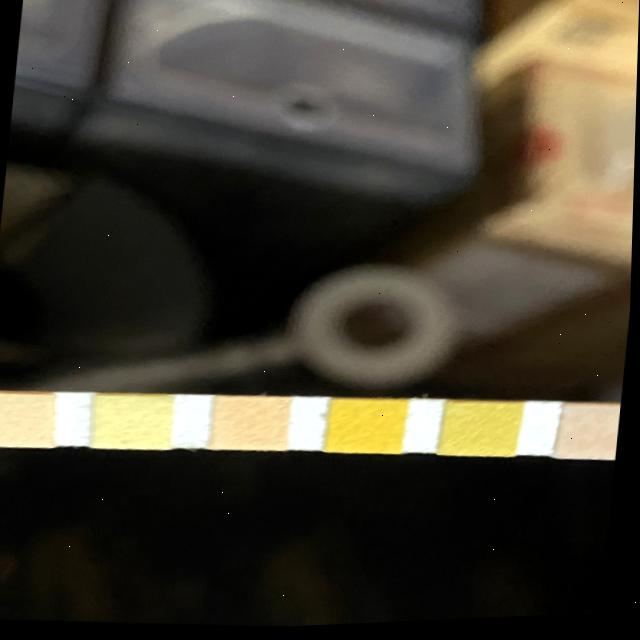Blood: (327, 397, 406, 459)
Ketone: (560, 405, 623, 466)
Protein: (94, 391, 174, 452)
SpGravity: (441, 401, 521, 463)
Urobilinogen: (0, 388, 59, 449)
pH: (212, 394, 291, 454)
